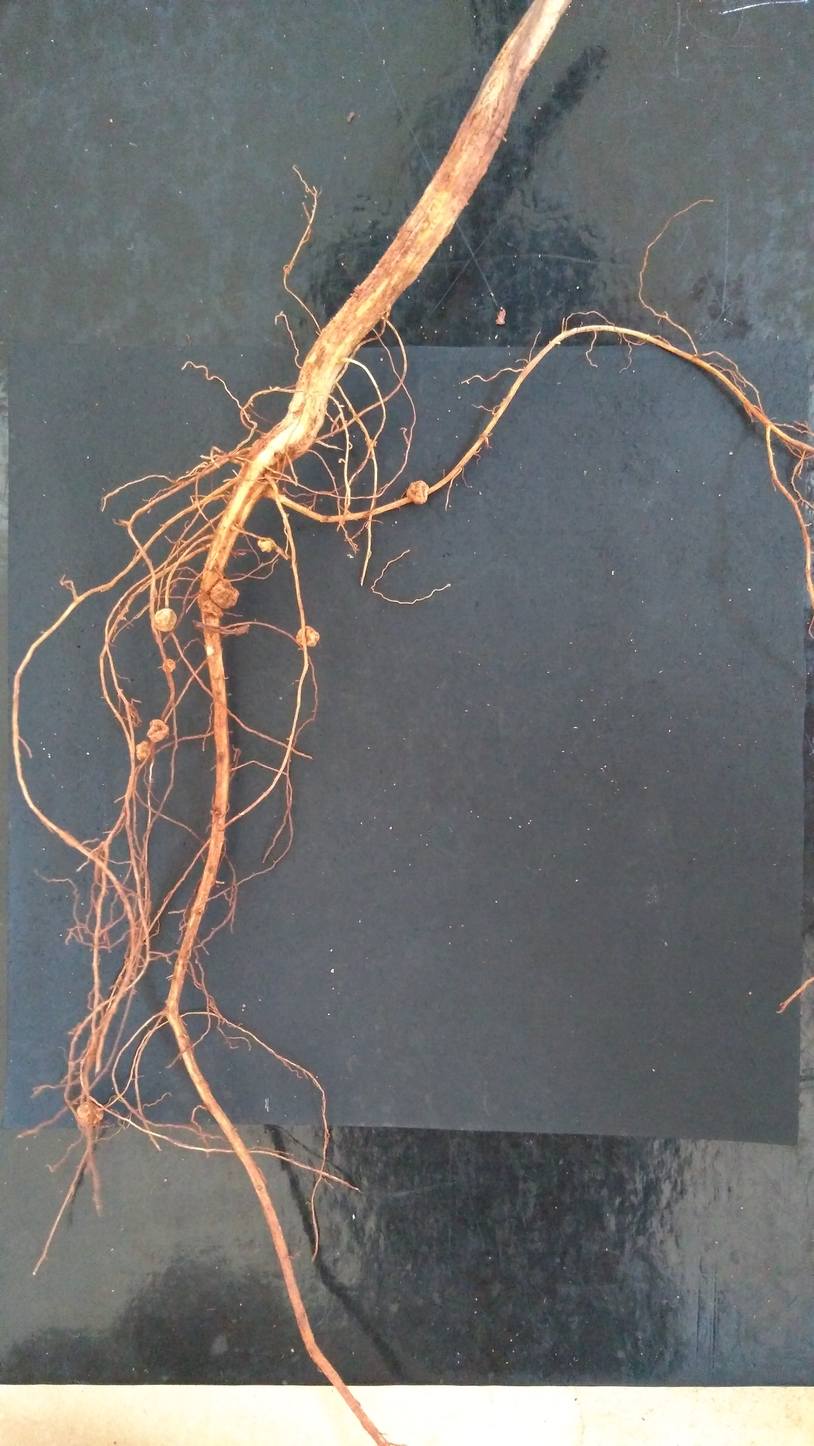nodule: (210, 580, 240, 609), (76, 1101, 104, 1124), (406, 480, 429, 504), (154, 608, 177, 632), (147, 719, 169, 742), (296, 626, 319, 647), (135, 741, 152, 760), (257, 538, 275, 553), (163, 659, 176, 672)
